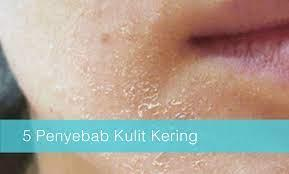Dry-Skin: (111, 86, 179, 112), (190, 84, 244, 100), (124, 57, 148, 83), (54, 20, 76, 45), (162, 55, 186, 72), (80, 66, 97, 90), (119, 25, 139, 42), (153, 159, 185, 165)
